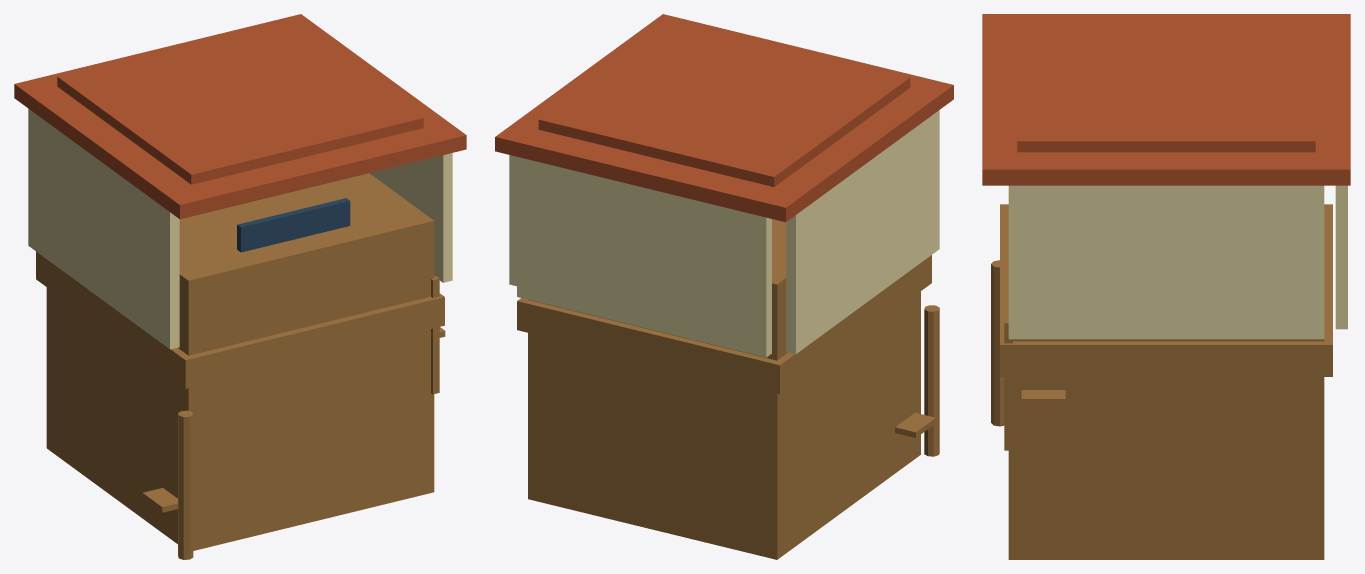
File: BLD_LifeguardTower.fbx
3 views of the same model, side by side, from view 1: azimuth 30°, elevation 25°; view 2: azimuth 150°, elevation 25°; view 3: azimuth 270°, elevation 25° (orthographic). The views are drawn at different scales.
Parts seen in each view (by area): view 1: BLD_LifeguardTower__BODY, BLD_LifeguardTower__COL_Main; view 2: BLD_LifeguardTower__BODY, BLD_LifeguardTower__COL_Main; view 3: BLD_LifeguardTower__BODY, BLD_LifeguardTower__COL_Main.
Part boxes in pixels (x1,y1,x2,y2): BLD_LifeguardTower__BODY: [14, 14, 466, 559]; BLD_LifeguardTower__COL_Main: [46, 173, 434, 550]; BLD_LifeguardTower__BODY: [495, 14, 953, 456]; BLD_LifeguardTower__COL_Main: [528, 219, 920, 559]; BLD_LifeguardTower__BODY: [982, 14, 1350, 450]; BLD_LifeguardTower__COL_Main: [1008, 339, 1324, 559].
Size of the model in its own units: 4.2 by 5.22 by 4.2.
